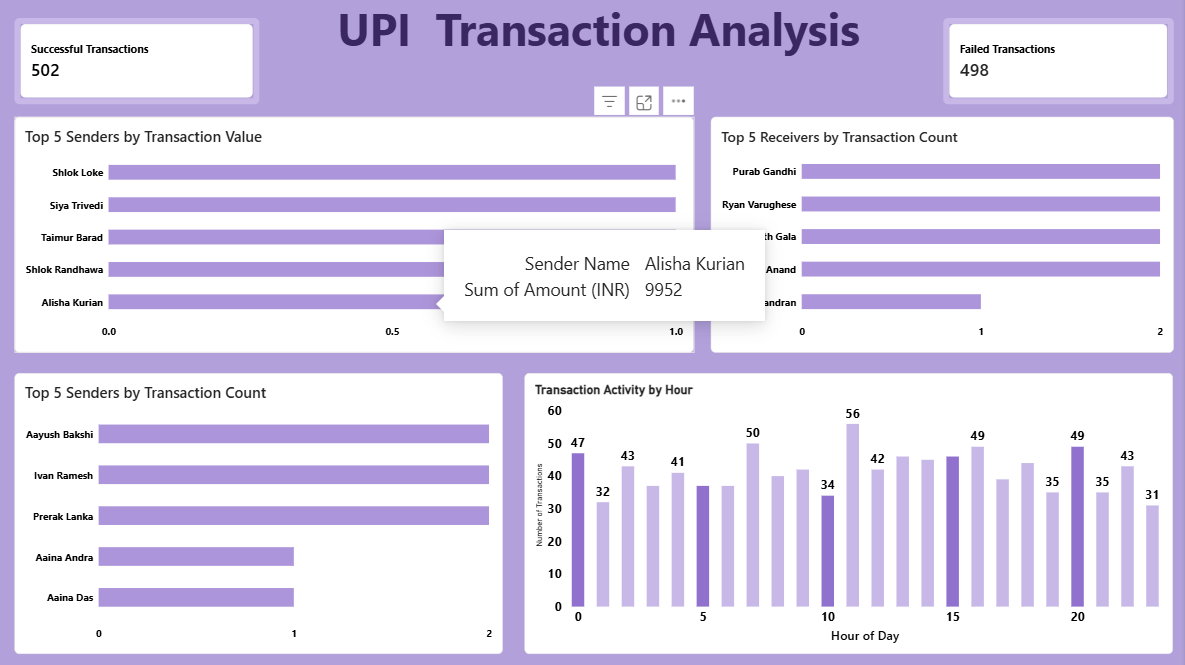

Layout of this report page (visuals, bound fields, positions):
{"tool":"powerbi","page":{"name":" Page 2","canvas":[1920,1080],"ordinal":1},"visuals":[{"type":"cardVisual","fields":{"Data":["Transaction_Cleaned.Failed Transactions"]},"box":[1526.5,32,372.2,139.6],"z":0},{"type":"cardVisual","fields":{"Data":["Transaction_Cleaned.Successful Transactions"]},"box":[29.1,32,395.4,139.6],"z":1000},{"type":"clusteredBarChart","title":"Top 5 Senders by Transaction Count","fields":{"Category":["Transaction_Cleaned.Sender Name"],"Y":["CountNonNull(Transaction_Cleaned.Transaction ID)"]},"box":[29.1,604.8,788,453.6],"z":2000},{"type":"clusteredBarChart","title":"Top 5 Receivers by Transaction Count","fields":{"Category":["Transaction_Cleaned.Receiver Name"],"Y":["CountNonNull(Transaction_Cleaned.Transaction ID)"]},"box":[1151.4,191.9,747.3,380.9],"z":3000},{"type":"clusteredBarChart","title":"Top 5 Senders by Transaction Value","fields":{"Category":["Transaction_Cleaned.Sender Name"],"Y":["Sum(Transaction_Cleaned.Amount (INR))"]},"box":[29.1,191.9,1096.2,380.9],"z":4000},{"type":"clusteredColumnChart","title":"Transaction Activity by Hour","fields":{"Y":["CountNonNull(Transaction_Cleaned.Transaction ID)"],"Category":["Transaction_Cleaned.Transaction Hour"]},"box":[851.9,604.8,1046.8,453.6],"z":5000},{"type":"textbox","box":[467.6,0,1016.4,121.7],"z":6000},{"type":"textbox","box":[444.9,0,1049.7,171.6],"z":7000}]}

Visuals, with their boxes in screenshot pixels (x1, y1, x2, y2), scaled from the page's 1920x1080 canvas onto the 1185x665 screenshot:
cardVisual - Transaction_Cleaned.Failed Transactions: BBox(942, 20, 1172, 106)
cardVisual - Transaction_Cleaned.Successful Transactions: BBox(18, 20, 262, 106)
"Top 5 Senders by Transaction Count" clusteredBarChart: BBox(18, 372, 504, 652)
"Top 5 Receivers by Transaction Count" clusteredBarChart: BBox(711, 118, 1172, 353)
"Top 5 Senders by Transaction Value" clusteredBarChart: BBox(18, 118, 695, 353)
"Transaction Activity by Hour" clusteredColumnChart: BBox(526, 372, 1172, 652)
textbox: BBox(289, 0, 916, 75)
textbox: BBox(275, 0, 922, 106)
